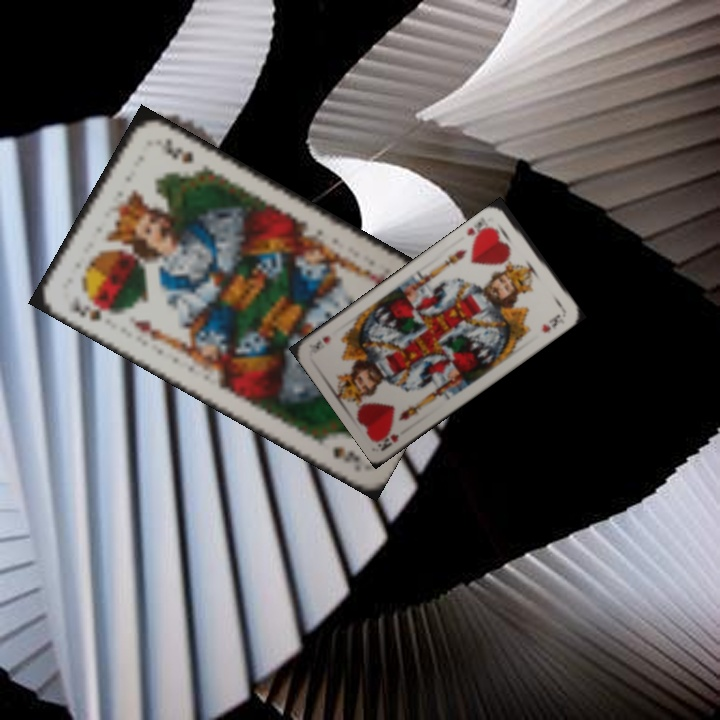HK: (463, 217, 495, 244), (375, 429, 401, 453)
SK: (69, 294, 117, 325)
